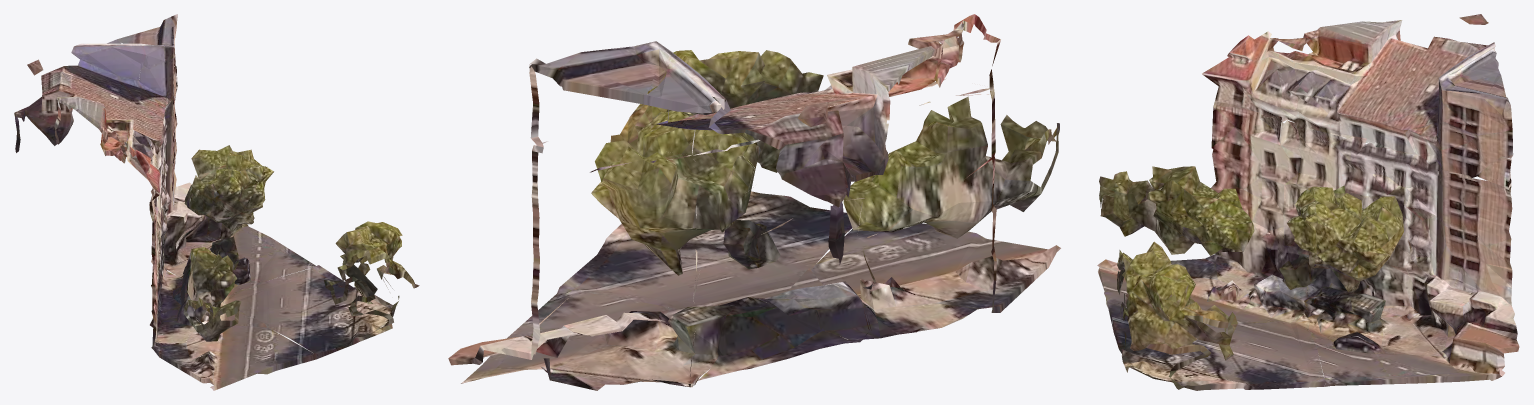
3 views of the same model, side by side, from view 1: azimuth 30°, elevation 25°; view 2: azimuth 150°, elevation 25°; view 3: azimuth 270°, elevation 25° (orthographic). The views are drawn at different scales.
Visible parts, largest first — view 1: Mesh_0; view 2: Mesh_0; view 3: Mesh_0.
Boxes of the visible parts, box(x1,y1,x2,y2) form: Mesh_0: box(14, 14, 419, 390); Mesh_0: box(448, 14, 1060, 390); Mesh_0: box(1097, 14, 1519, 390).
Bounding box in the file's own units: 33.32 × 27.24 × 41.5.
Materials: 1 (1 with a texture image).
